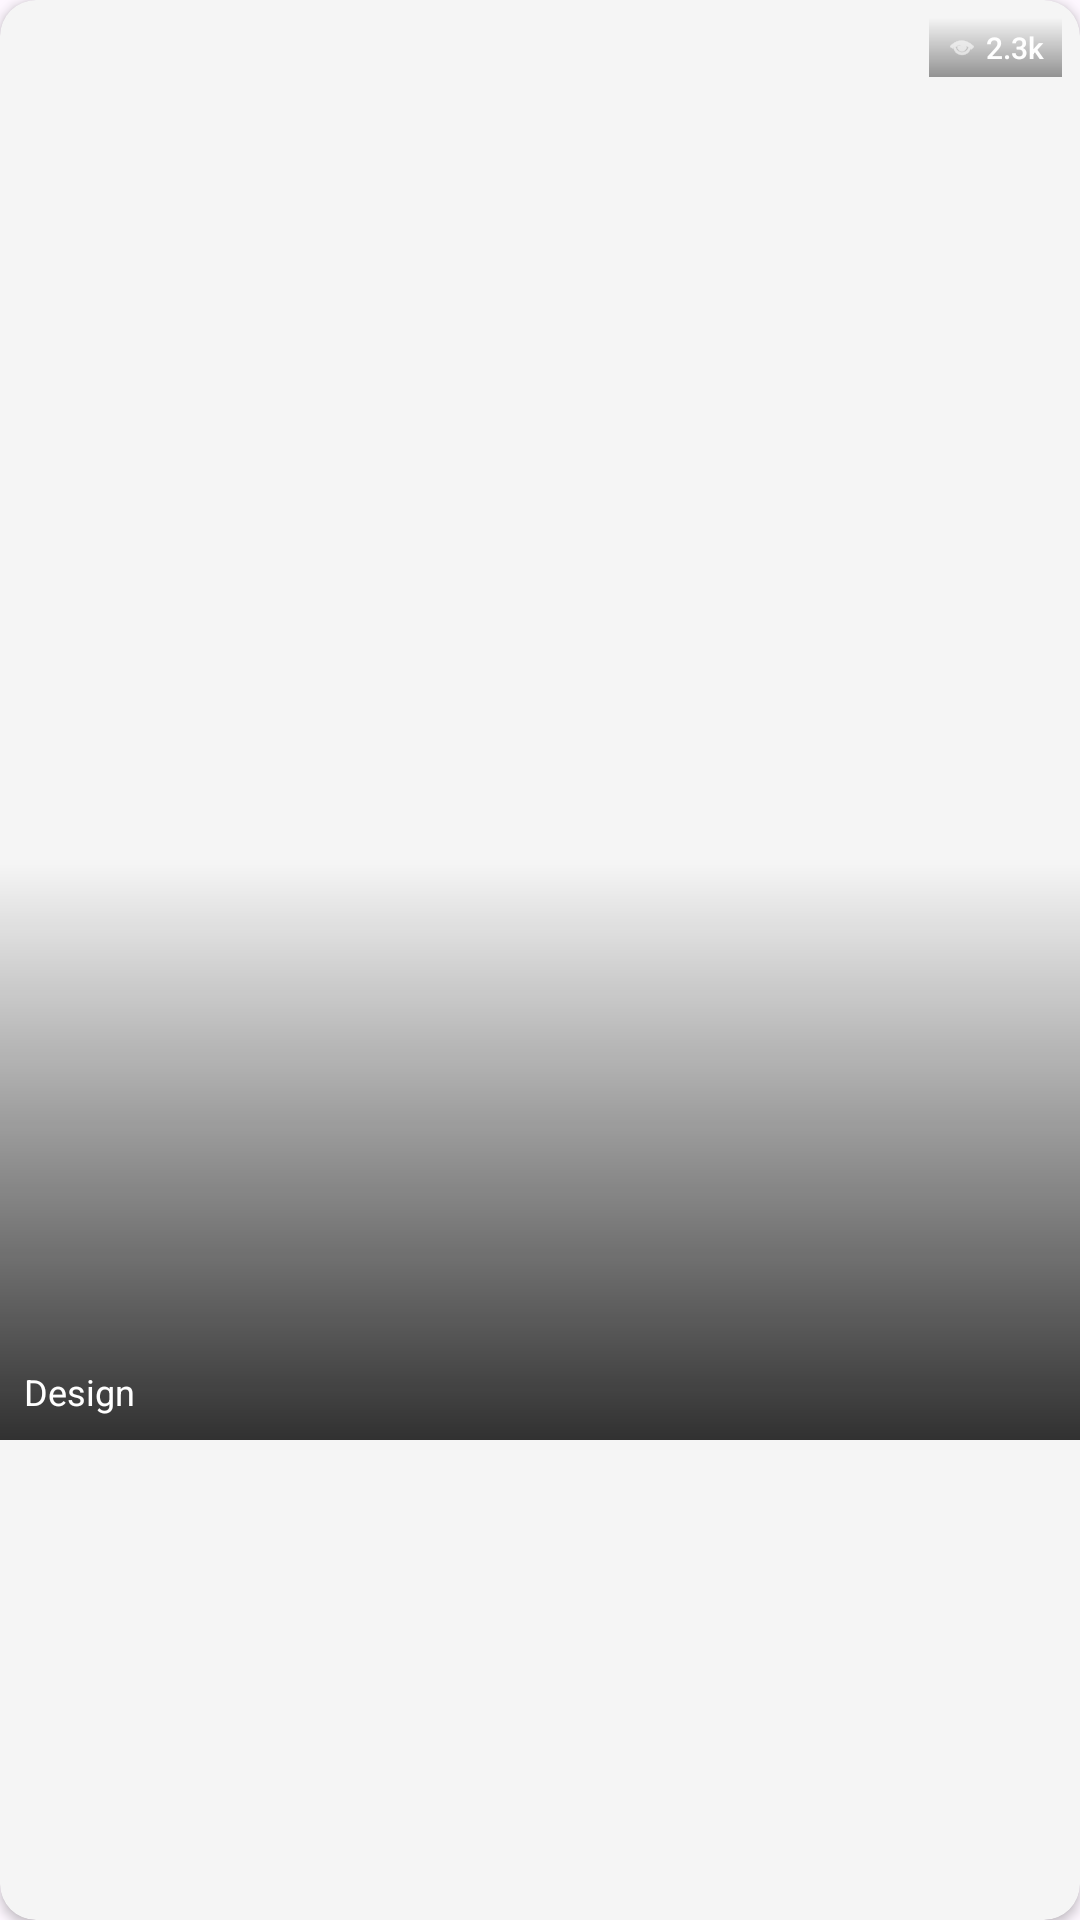

Icon click points for this 1080×1920 phone screenshot, format point (x, y):
view: point (962, 47)
